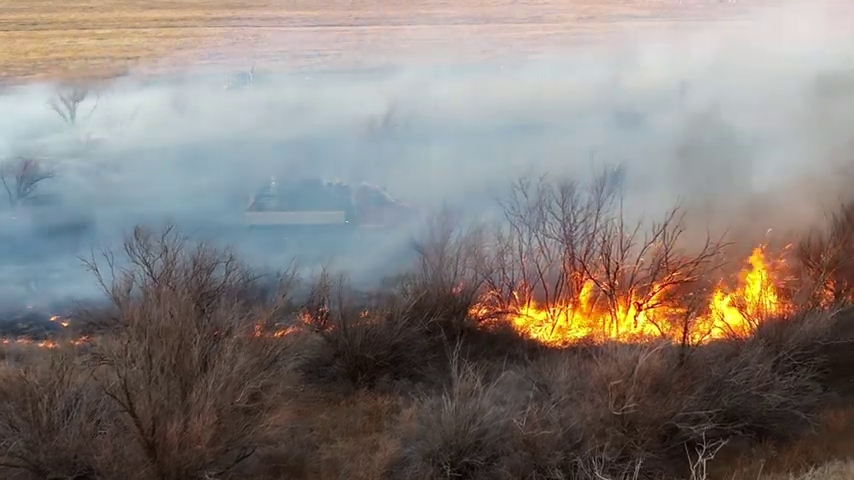forest_fire: (469, 282, 683, 345), (688, 247, 778, 341)
